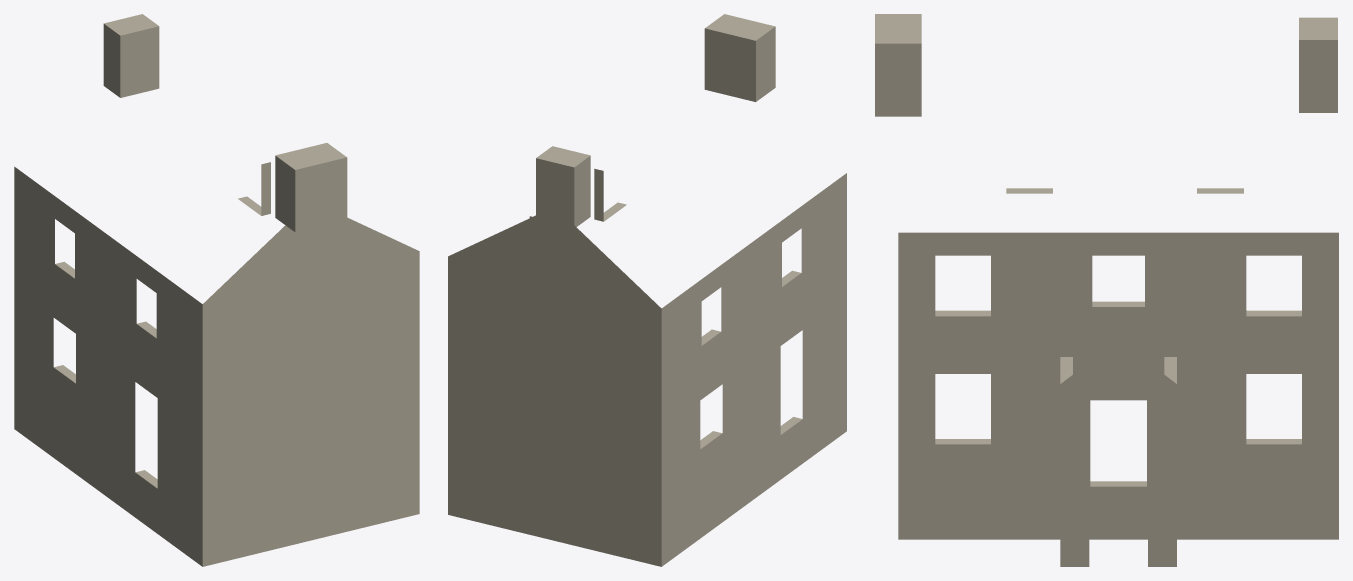
The model's file is SM_Bld_215_Render.glb.
The picture shows the model from 3 angles, left to right: view 1: azimuth 30°, elevation 25°; view 2: azimuth 150°, elevation 25°; view 3: azimuth 270°, elevation 25°; orthographic projection. The views are drawn at different scales.
Parts seen in each view (by area): view 1: SM_Bld_215_Render; view 2: SM_Bld_215_Render; view 3: SM_Bld_215_Render.
Part boxes in pixels (bbox=[...]): SM_Bld_215_Render: bbox=[14, 14, 419, 566]; SM_Bld_215_Render: bbox=[448, 14, 846, 566]; SM_Bld_215_Render: bbox=[875, 14, 1338, 566].
Size of the model in its own units: 6.12 by 8.48 by 7.94.
